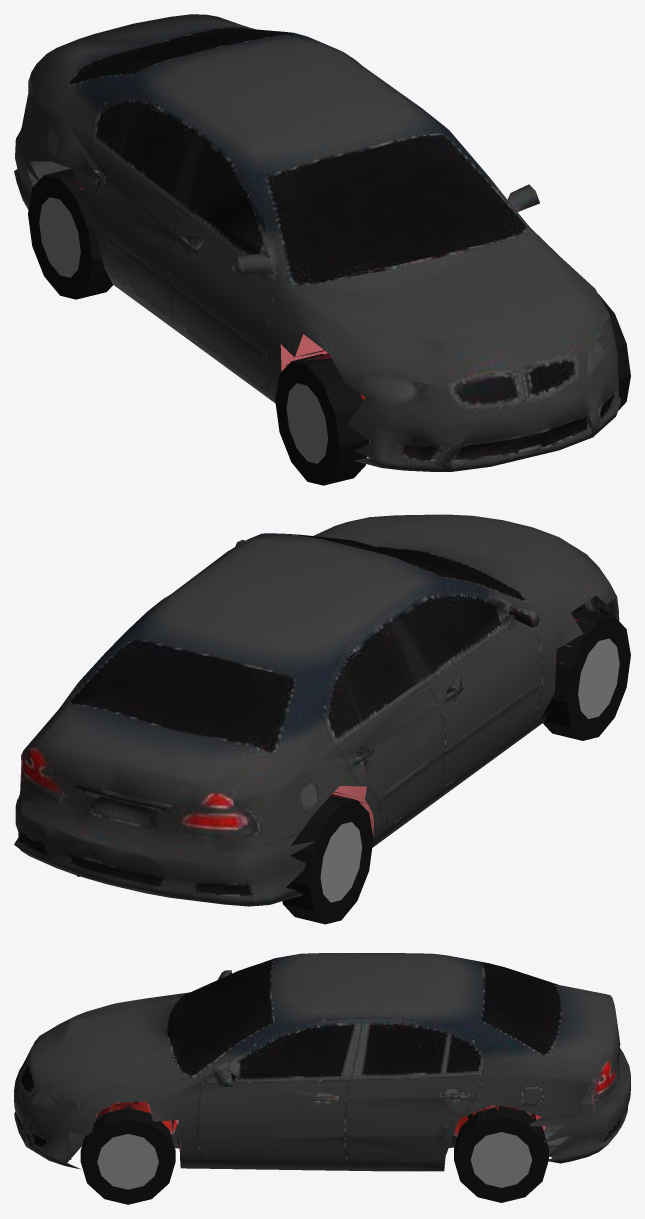
The model's file is saloon-black.glb.
3 renders of one model, top to bottom at view 1: azimuth 30°, elevation 25°; view 2: azimuth 150°, elevation 25°; view 3: azimuth 270°, elevation 25°, orthographic. The views are drawn at different scales.
Visible parts, largest first — view 1: saloon, wheel_fr, wheel_rr, wheel_fl; view 2: saloon, wheel_fr, wheel_rr; view 3: saloon, wheel_rl, wheel_fl.
Boxes of the visible parts, x1=… form: saloon: x1=14, y1=14, x2=621, y2=471; wheel_fr: x1=275, y1=354, x2=369, y2=485; wheel_rr: x1=28, y1=168, x2=112, y2=299; wheel_fl: x1=598, y1=294, x2=630, y2=410; saloon: x1=14, y1=514, x2=619, y2=906; wheel_fr: x1=540, y1=609, x2=630, y2=740; wheel_rr: x1=282, y1=794, x2=373, y2=924; saloon: x1=14, y1=953, x2=630, y2=1171; wheel_rl: x1=454, y1=1106, x2=548, y2=1202; wheel_fl: x1=80, y1=1107, x2=175, y2=1204.
Size of the model in its own units: 1.88 by 1.41 by 4.5.
Materials: 1 (1 with a texture image).
